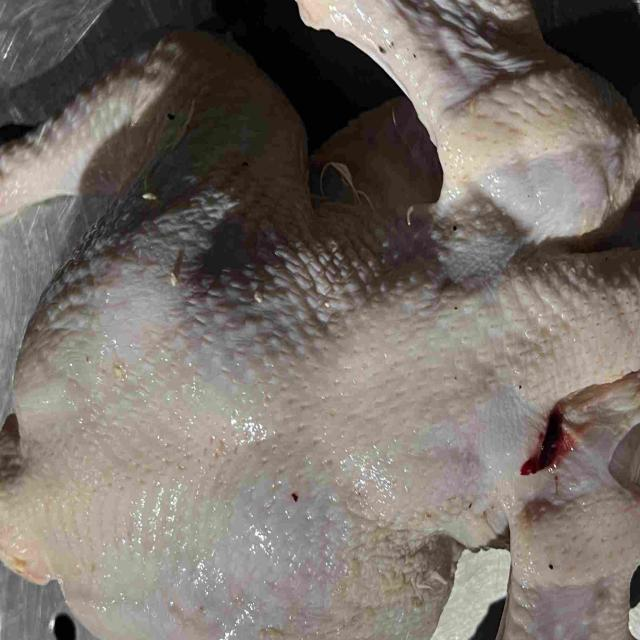back: (0, 247, 507, 634)
leg: (0, 29, 313, 256), (187, 609, 432, 640)
neck: (507, 250, 640, 383)
wing: (299, 0, 640, 277), (489, 366, 640, 640)
